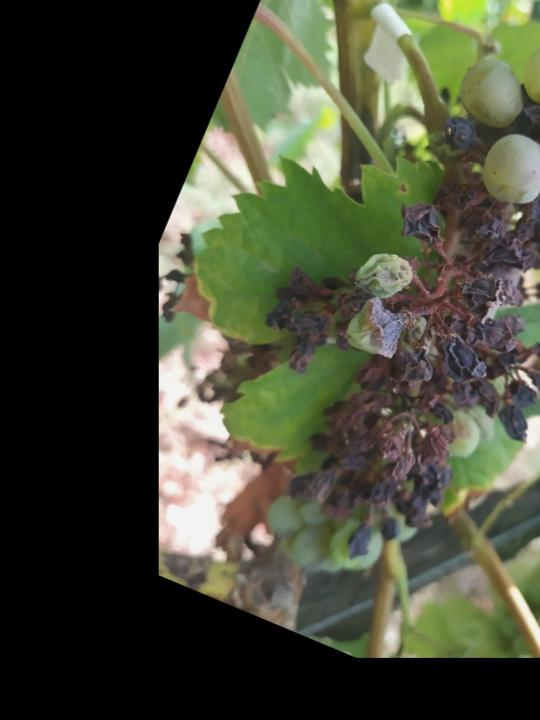grape: (184, 0, 540, 617)
